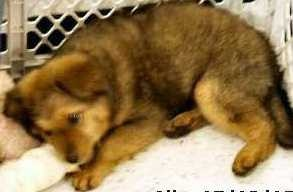dog: (23, 16, 288, 178)
